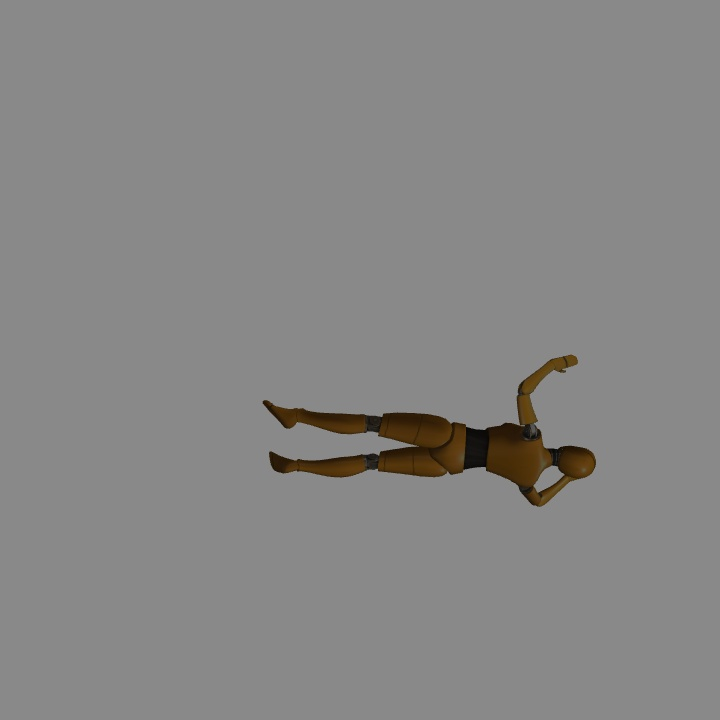victim: (265, 403, 595, 504)
